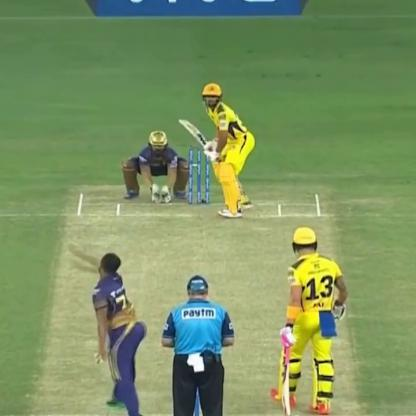ball: (93, 355, 106, 368), (91, 350, 101, 360)
bat: (174, 112, 220, 156), (278, 325, 297, 415)
pitch: (31, 189, 358, 415)
